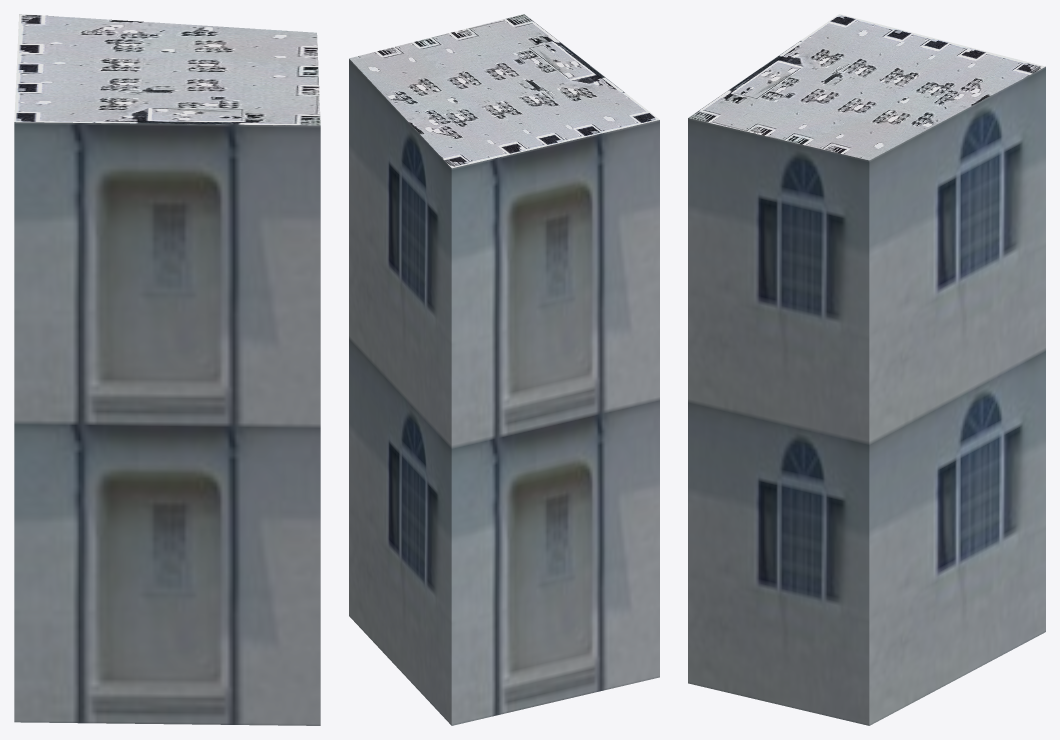
The model's file is ResTex__542.fbx.
3 views of the same model, side by side, from view 1: azimuth 30°, elevation 25°; view 2: azimuth 150°, elevation 25°; view 3: azimuth 270°, elevation 25° (orthographic). The views are drawn at different scales.
Visible parts, largest first — view 1: CityEngineMaterial_17_m, CityEngineMaterial_m; view 2: CityEngineMaterial_17_m, CityEngineMaterial_m; view 3: CityEngineMaterial_17_m, CityEngineMaterial_m.
Boxes of the visible parts, x1,y1,x2,y2 form: CityEngineMaterial_17_m: [14, 122, 320, 725]; CityEngineMaterial_m: [14, 14, 320, 125]; CityEngineMaterial_17_m: [349, 59, 659, 725]; CityEngineMaterial_m: [349, 14, 659, 168]; CityEngineMaterial_17_m: [688, 66, 1045, 725]; CityEngineMaterial_m: [688, 14, 1045, 160].
Size of the model in its own units: 3.33 by 6 by 3.44.
2 materials, 2 textured.
